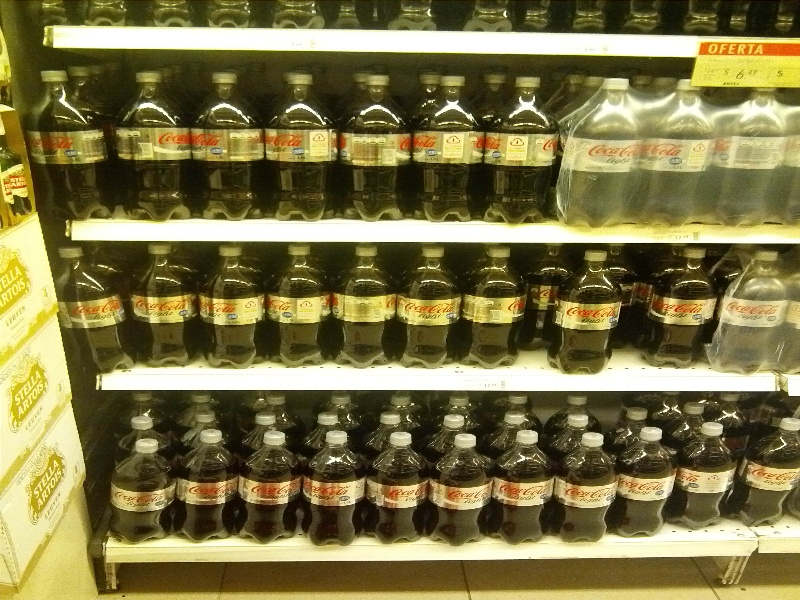lemonade: (22, 68, 115, 218), (183, 66, 267, 225), (341, 72, 414, 223), (264, 69, 335, 219), (115, 70, 185, 220), (55, 249, 139, 373), (417, 70, 482, 223), (488, 76, 556, 221), (332, 242, 398, 367), (397, 244, 462, 369), (459, 247, 524, 369), (202, 243, 265, 367), (135, 245, 197, 371), (264, 246, 328, 368), (556, 249, 618, 372), (648, 247, 711, 368), (170, 430, 238, 542), (300, 430, 363, 545), (237, 432, 301, 541), (491, 430, 553, 542), (108, 439, 172, 540), (370, 435, 429, 544), (429, 434, 485, 547), (556, 433, 610, 542), (618, 429, 672, 537)
